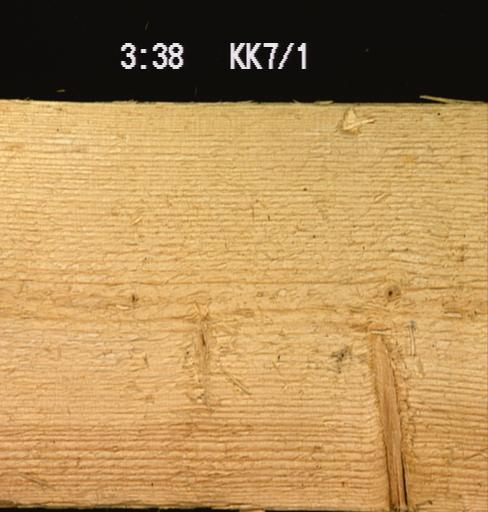dry_knot: (366, 323, 410, 511)
small_knot: (381, 284, 402, 300), (124, 289, 139, 304)
wave: (0, 499, 229, 511)
